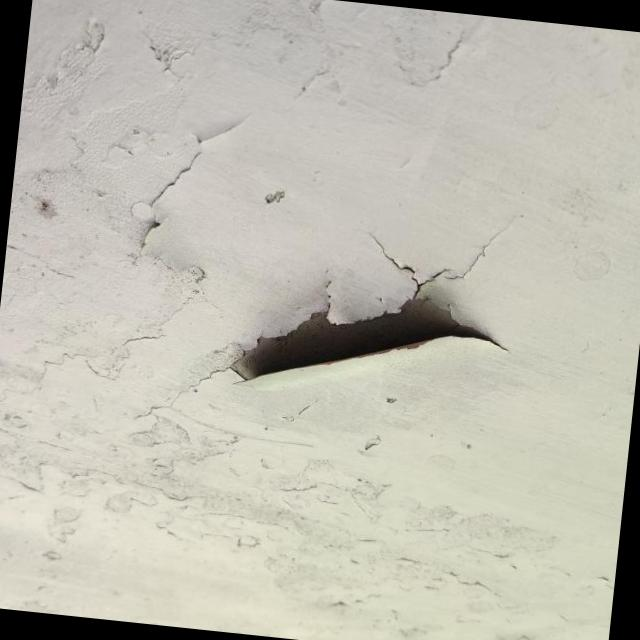Paint-off: (231, 297, 502, 380)
